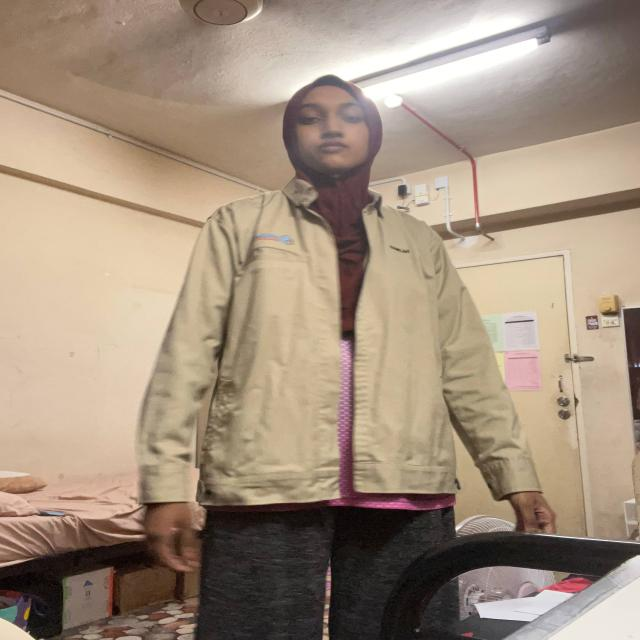person_with_labcoat: (136, 75, 555, 640)
